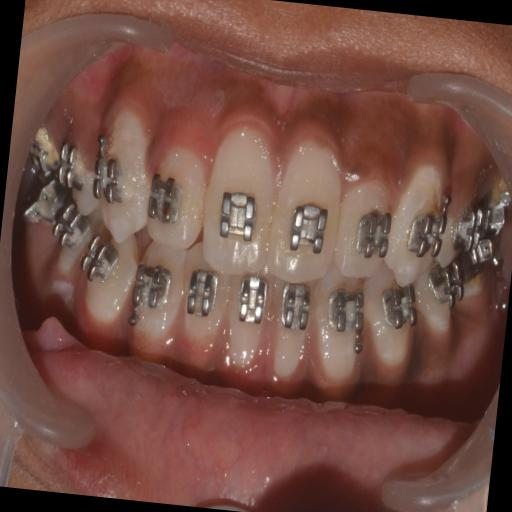correct_brace: (215, 182, 259, 258), (283, 195, 332, 262), (402, 194, 440, 276), (350, 199, 392, 269), (94, 146, 134, 217), (146, 166, 188, 232)
incorrect_brace: (142, 143, 208, 255), (334, 174, 393, 280)
